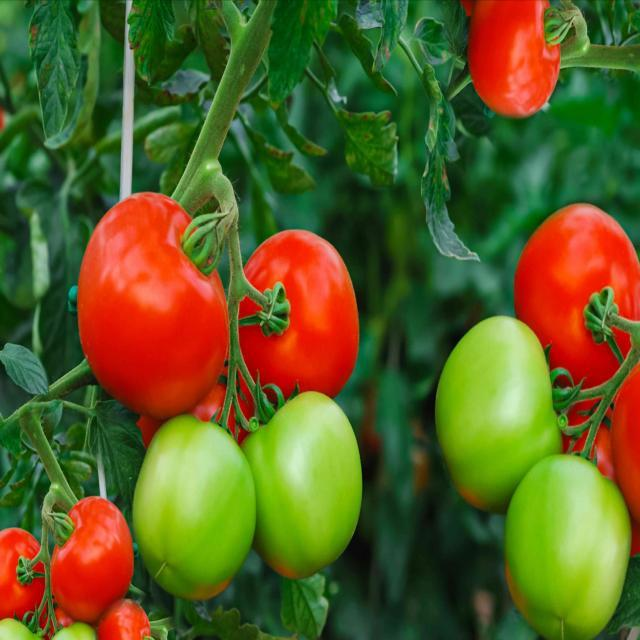kirmizi: (72, 196, 380, 390), (518, 188, 640, 330), (454, 2, 572, 124)
